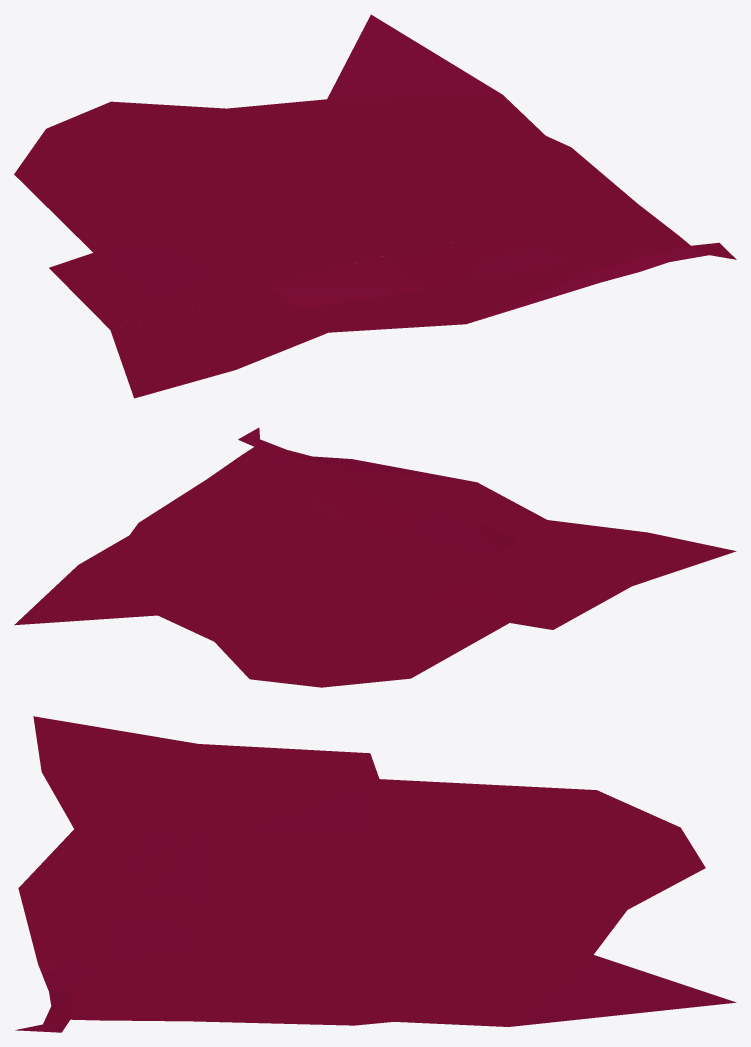
The model's file is map_1002_dixing_02.FBX.
The picture shows the model from 3 angles, top to bottom: view 1: azimuth 30°, elevation 25°; view 2: azimuth 150°, elevation 25°; view 3: azimuth 270°, elevation 25°; orthographic projection. The views are drawn at different scales.
Parts seen in each view (by area): view 1: map_1002_dixing_02; view 2: map_1002_dixing_02; view 3: map_1002_dixing_02.
Part boxes in pixels (left/top/right/bottom): map_1002_dixing_02: left=14, top=14, right=736, bottom=398; map_1002_dixing_02: left=14, top=427, right=736, bottom=687; map_1002_dixing_02: left=15, top=716, right=736, bottom=1032.
Size of the model in its own units: 45.1 by 0.9821 by 43.5.
